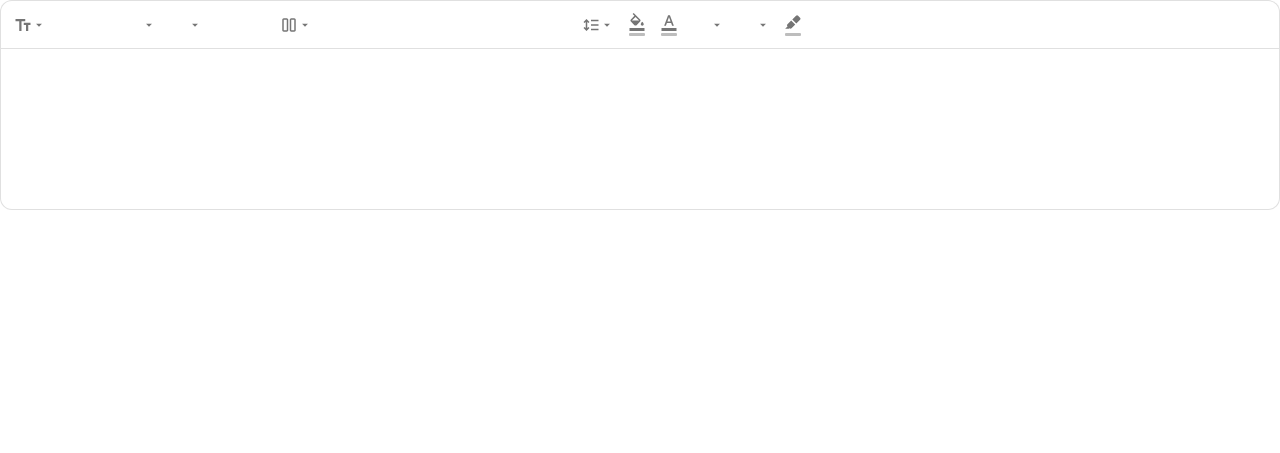
it: toolbar — SPEC 5.1 (IconButtons, sem Select) › listas são um único botão com menu de estilos
The image size is (1280, 453).
Click the button named "Lista numerada": (186, 24) [165,10,207,38]
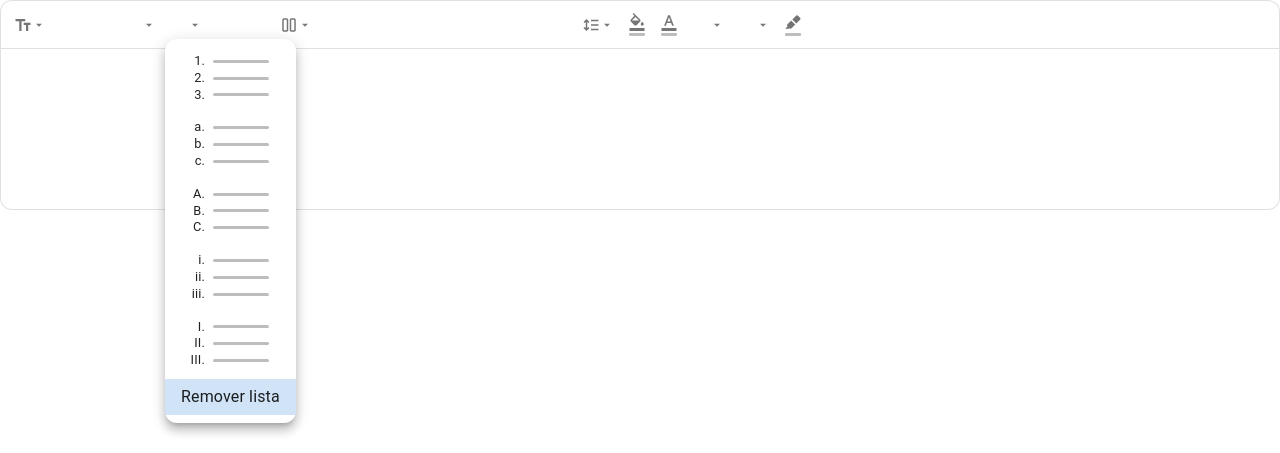
Check: the text "Remover lista" is shown, box [181,385,280,409]
